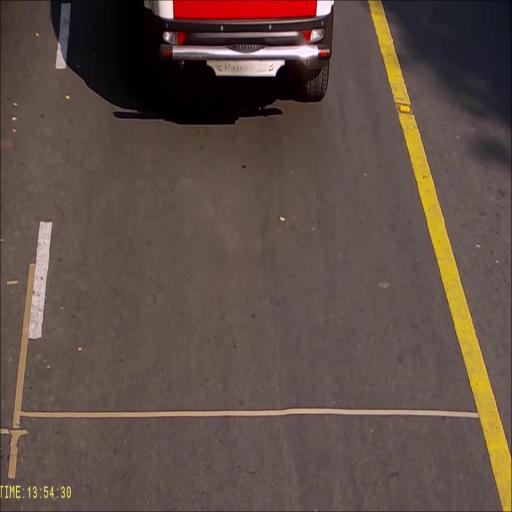Vehicle: (144, 0, 334, 102)
